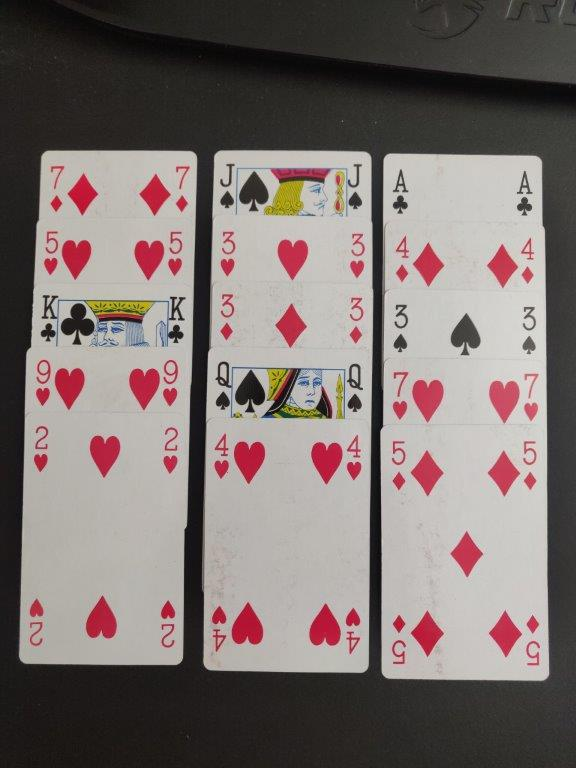2H: (29, 422, 54, 480), (161, 421, 184, 478)
3D: (215, 288, 242, 344), (345, 292, 369, 347)
3H: (344, 225, 371, 284), (217, 228, 241, 280)
3S: (390, 299, 414, 355), (517, 302, 540, 356)
4D: (516, 233, 539, 291), (391, 231, 411, 289)
4H: (342, 430, 368, 491), (209, 430, 235, 482)
5D: (388, 437, 412, 497), (520, 434, 543, 494)
5H: (40, 225, 63, 279), (165, 226, 187, 281)
7D: (44, 160, 68, 214), (172, 160, 193, 215)
7H: (386, 364, 414, 424), (520, 368, 544, 424)
9H: (161, 355, 183, 409), (32, 356, 53, 409)
AC: (388, 164, 415, 218), (513, 168, 537, 219)
JS: (343, 159, 369, 214), (216, 158, 241, 211)
KC: (161, 290, 191, 348), (37, 290, 61, 345)
QS: (343, 361, 369, 419), (211, 357, 237, 414)
